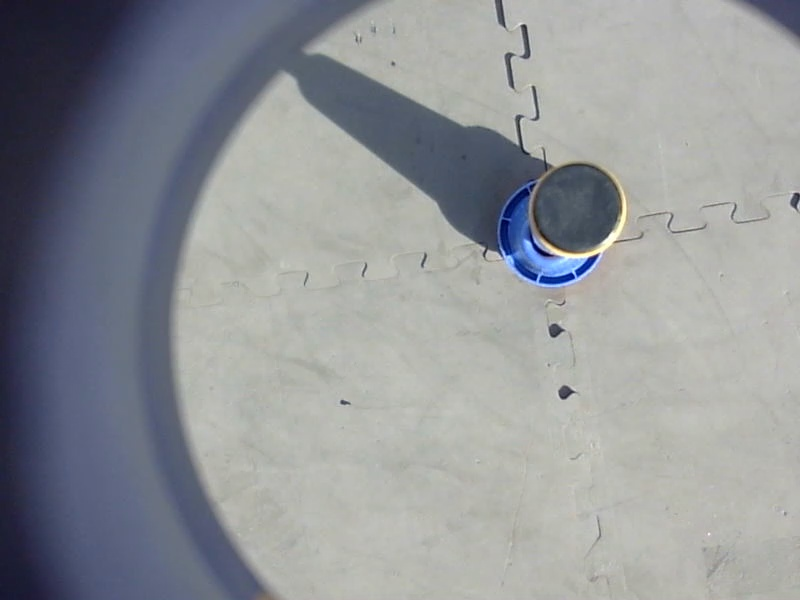tip: (522, 155, 634, 265)
